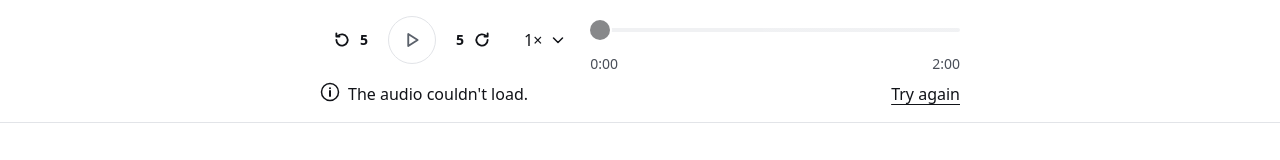
Test: the Practice player › reports a failed load and tries again
Expected: the text "The audio couldn't load." is shown, x1=348 y1=82 x2=528 y2=106
Click the button "Try again": click(926, 94) x1=891 y1=82 x2=960 y2=106
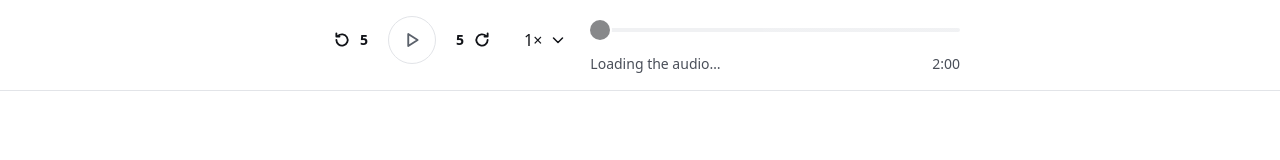
Now the text "Loading the audio…" is shown, box x1=590 y1=54 x2=721 y2=74
